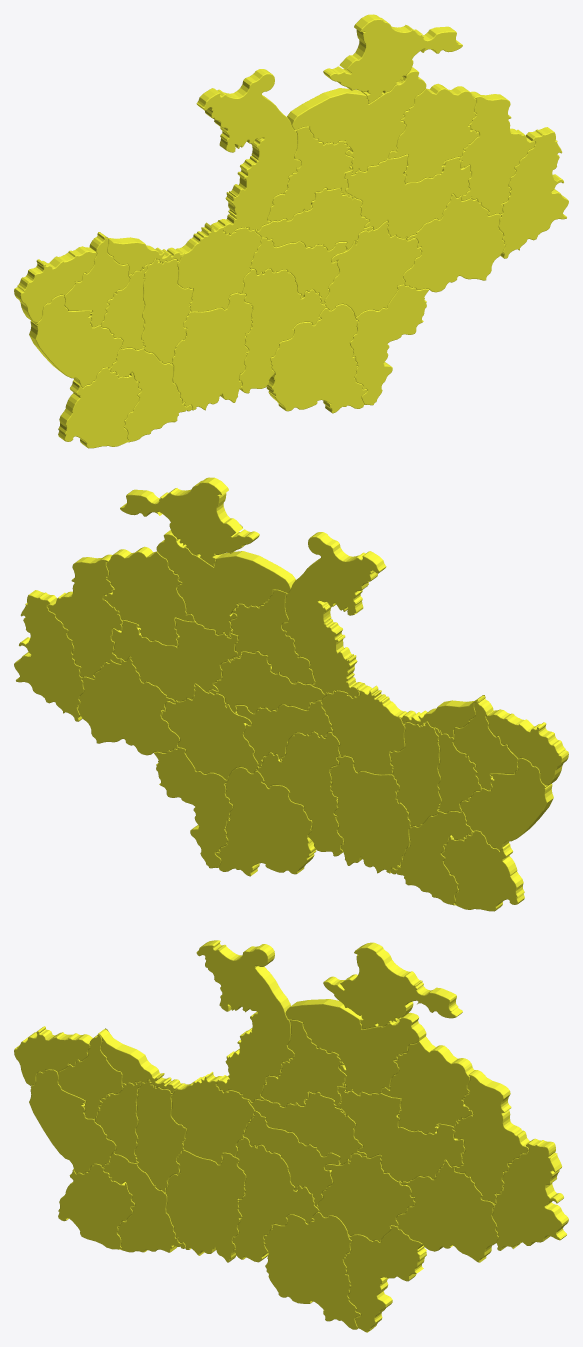
The model's file is ukraine-regions.glb.
The picture shows the model from 3 angles, top to bottom: view 1: azimuth 30°, elevation 25°; view 2: azimuth 150°, elevation 25°; view 3: azimuth 330°, elevation 25°; orthographic projection.
Parts seen in each view (by area): view 1: CityDistricts; view 2: CityDistricts; view 3: CityDistricts.
Boxes of the visible parts, x1,y1,x2,y2 form: CityDistricts: (14, 14, 568, 448); CityDistricts: (14, 477, 568, 911); CityDistricts: (14, 940, 568, 1332).
Bounding box in the file's own units: 200 × 134 × 4.4.
